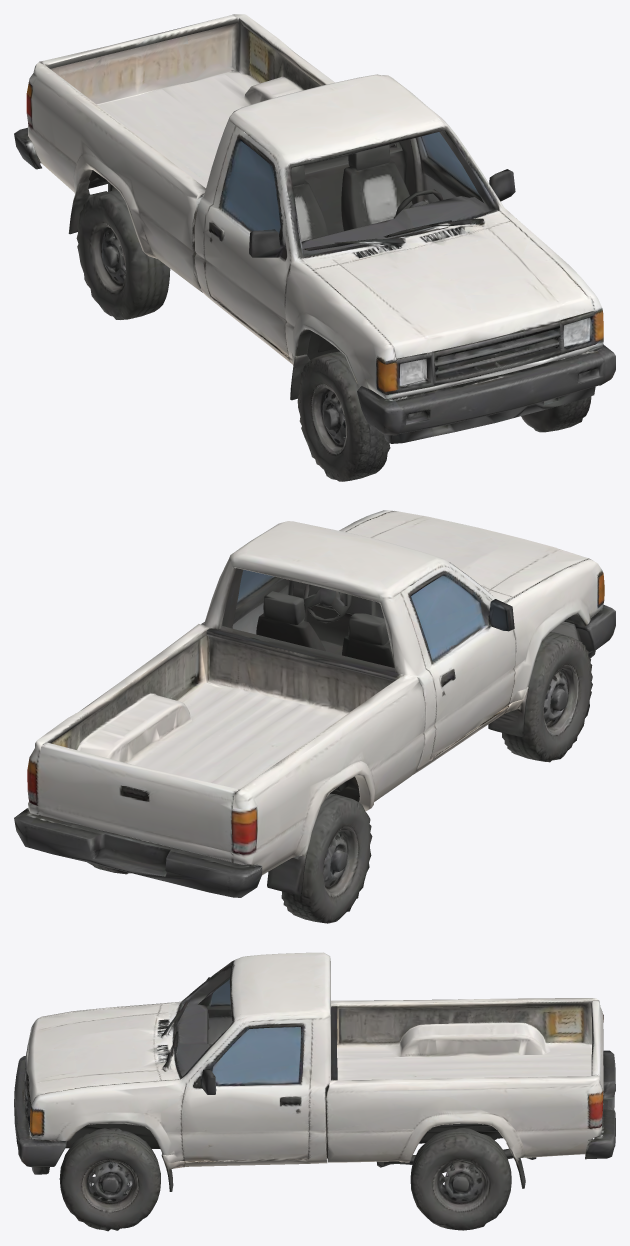
The model's file is car_pickup.glb.
The picture shows the model from 3 angles, top to bottom: view 1: azimuth 30°, elevation 25°; view 2: azimuth 150°, elevation 25°; view 3: azimuth 270°, elevation 25°; orthographic projection. The views are drawn at different scales.
Bounding box in the file's own units: 0.3928 × 0.3729 × 0.9797.
1 material, 1 textured.
